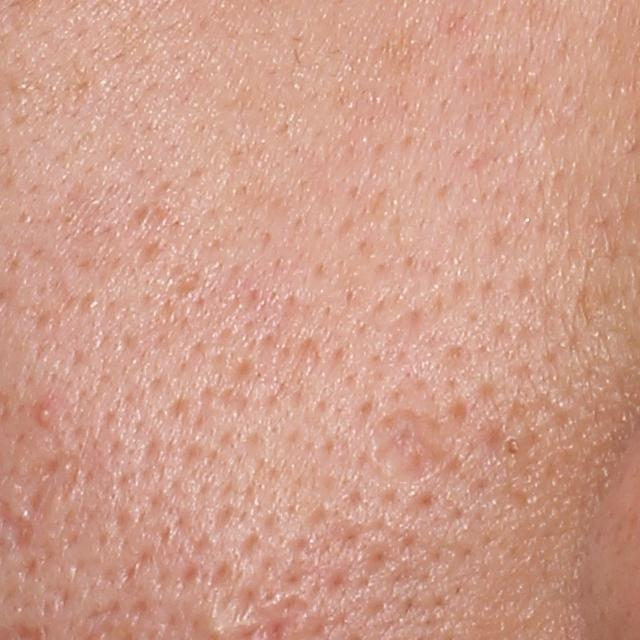atrophic_scar: (370, 406, 457, 491)
comedo: (498, 432, 526, 462)
pustule: (35, 403, 58, 425)
